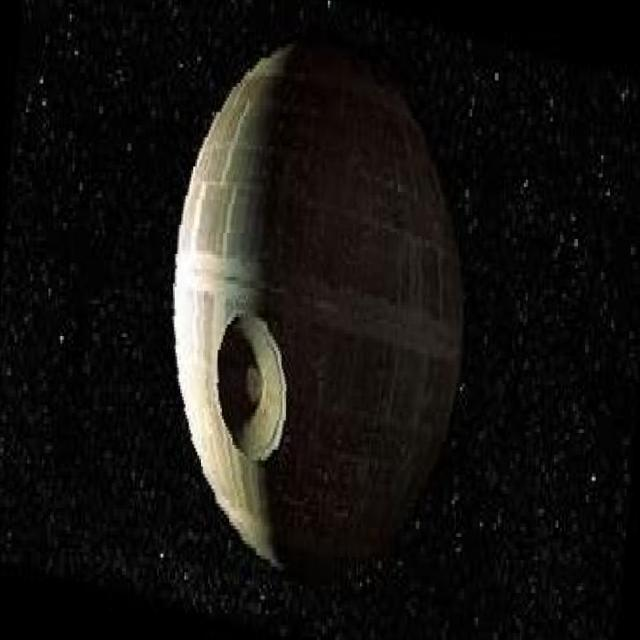Death Star: (162, 23, 476, 584)
